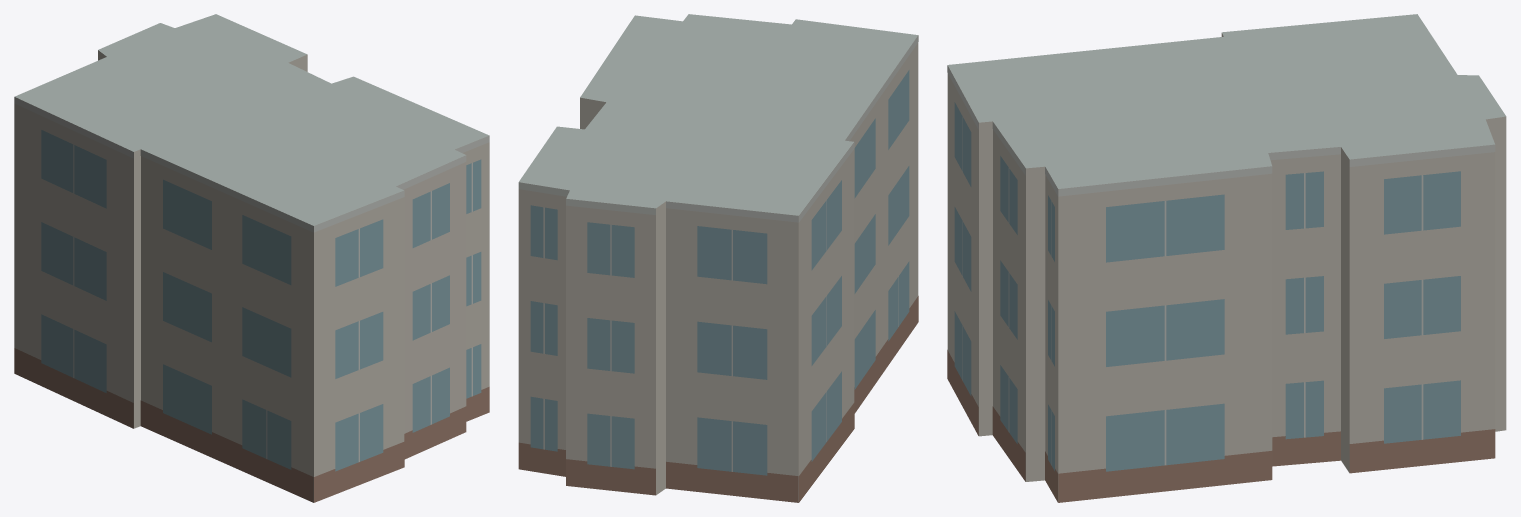
The model's file is survey-upis-32472459.glb.
3 renders of one model, left to right at view 1: azimuth 30°, elevation 25°; view 2: azimuth 150°, elevation 25°; view 3: azimuth 270°, elevation 25°, orthographic. The views are drawn at different scales.
Visible parts, largest first — view 1: survey-upis-32472459.tmp; view 2: survey-upis-32472459.tmp; view 3: survey-upis-32472459.tmp.
Part boxes in pixels (left/top/right/bottom): survey-upis-32472459.tmp: left=14, top=14, right=489, bottom=502; survey-upis-32472459.tmp: left=518, top=14, right=918, bottom=502; survey-upis-32472459.tmp: left=947, top=14, right=1506, bottom=502.
Size of the model in its own units: 12.22 by 10.2 by 16.48.
